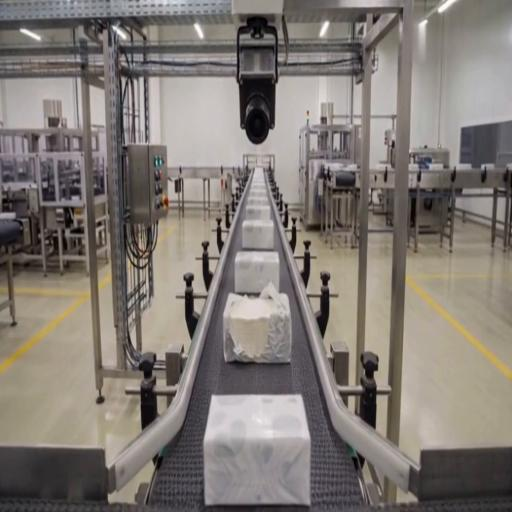defective: (203, 393, 309, 506), (222, 286, 293, 364)
good: (234, 250, 280, 296), (241, 220, 277, 253), (246, 180, 271, 200), (245, 204, 271, 223), (247, 170, 267, 184), (480, 163, 495, 171)
